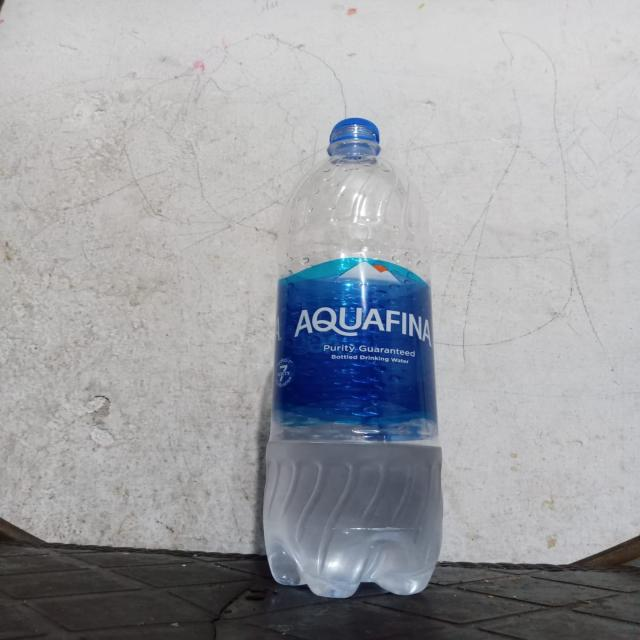bottle: (237, 107, 464, 604)
cap: (325, 115, 388, 163)
label: (269, 254, 450, 456)
